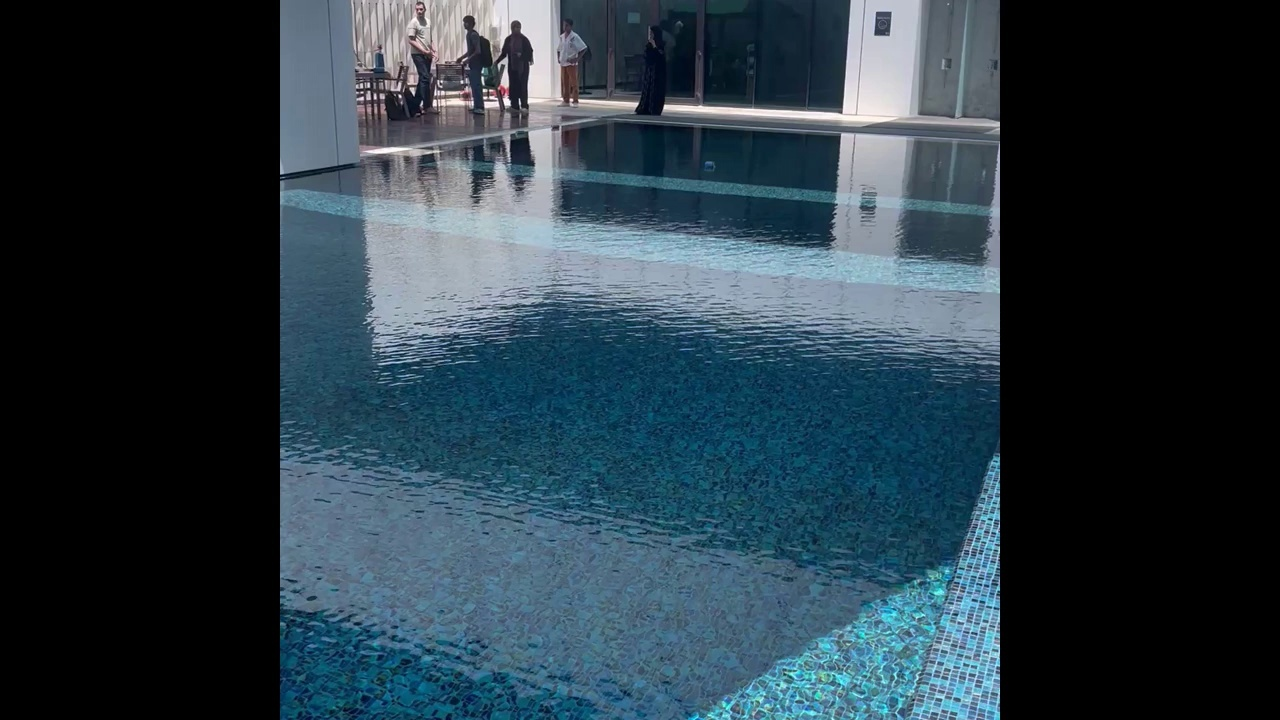debris: (513, 127, 530, 141), (702, 159, 715, 173), (549, 123, 562, 132)
